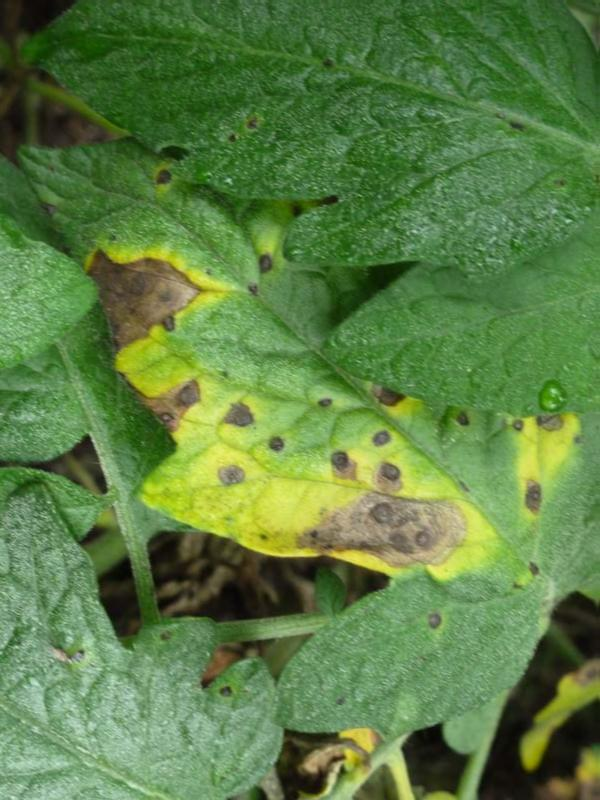Tomato Early blight leaf: (17, 142, 560, 587)
